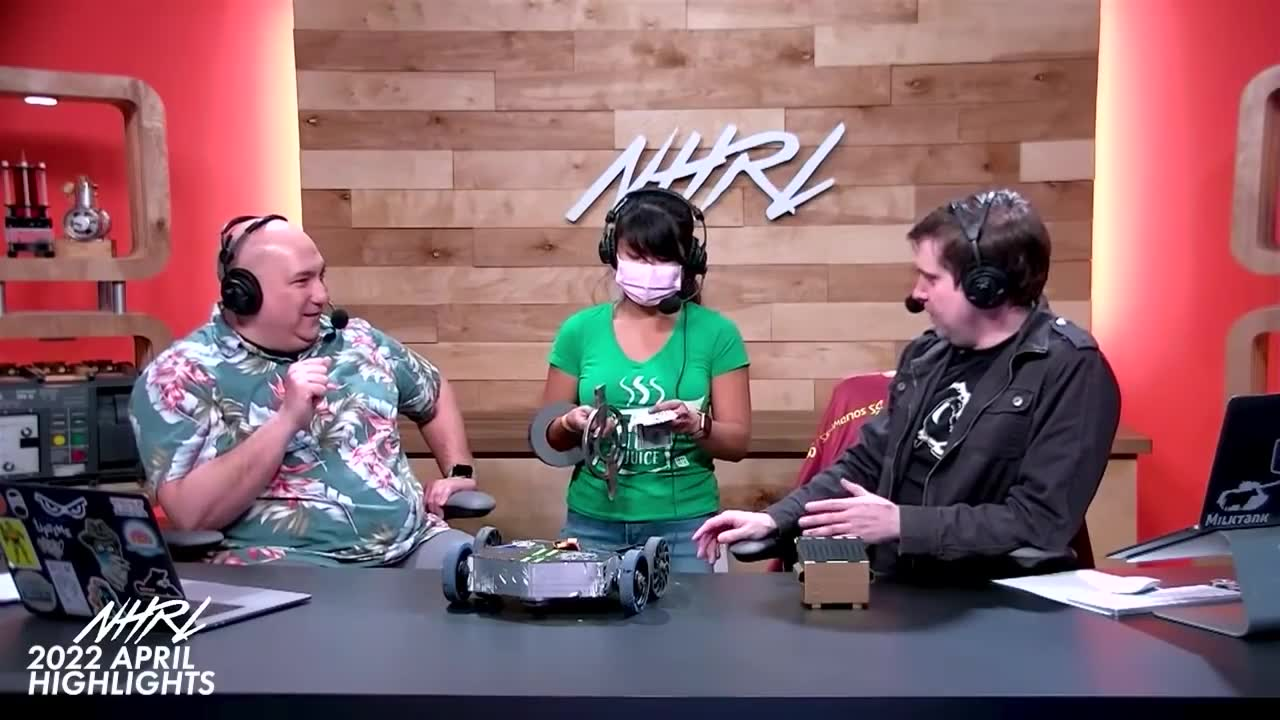combatbot: (441, 522, 673, 624)
